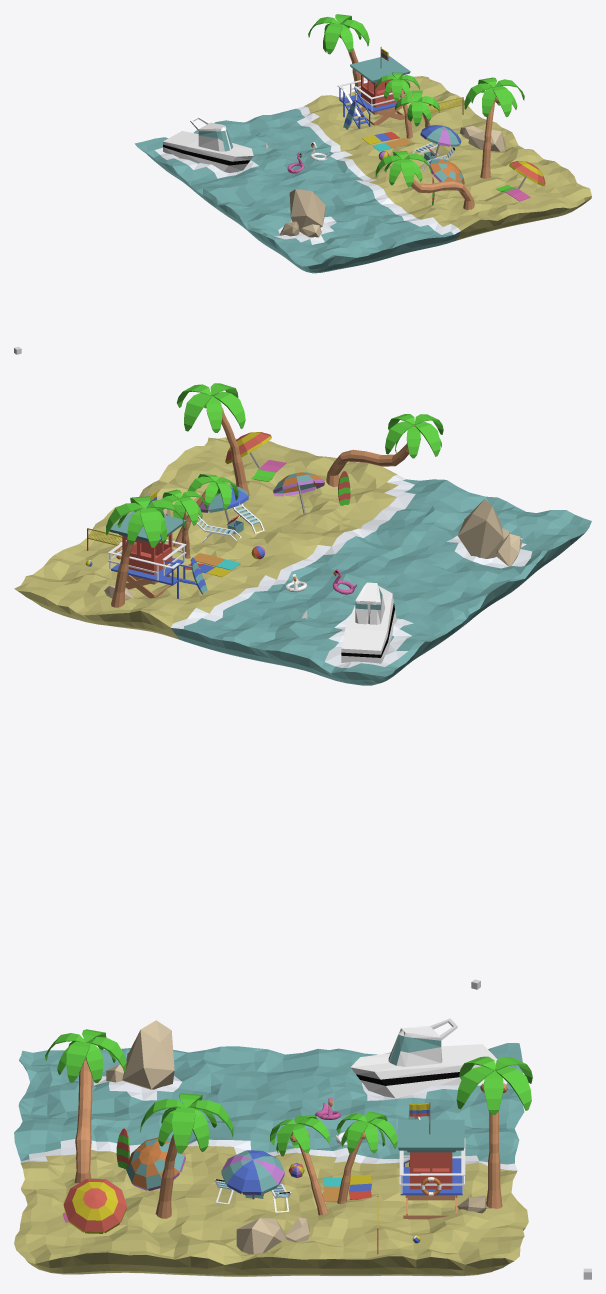
Rendered from beach.glb.
3 renders of one model, top to bottom at view 1: azimuth 30°, elevation 25°; view 2: azimuth 150°, elevation 25°; view 3: azimuth 270°, elevation 25°, orthographic. The views are drawn at different scales.
Parts seen in each view (by area): view 1: LightBlue-material.003, Sand-material, W2-material, White-material.001, R1-material, Green-material.004, Green-material.005, Green-material.006, LightBlue-material.004, Green-material, Brown-material.004, Green-material.002 (+3 smaller); view 2: LightBlue-material.003, Sand-material, W2-material, White-material.001, R1-material, Green-material.005, Green-material.004, Green-material.006, Brown-material.004, Red-material.004, Green-material, Green-material.002 (+1 smaller); view 3: Sand-material, LightBlue-material.003, R1-material, White-material.001, W2-material, Green-material.004, Green-material.005, Green-material.006, LightBlue-material.004, Red-material.003, Brown-material.004, Green-material.002 (+17 smaller).
Boxes of the visible parts, x1,y1,x2,y2 form: LightBlue-material.003: (134, 108, 460, 273); Sand-material: (304, 76, 591, 240); W2-material: (154, 106, 460, 244); White-material.001: (163, 116, 253, 172); R1-material: (279, 126, 505, 237); Green-material.004: (464, 77, 524, 116); Green-material.005: (308, 14, 369, 54); Green-material.006: (375, 151, 431, 187); LightBlue-material.004: (350, 55, 410, 82); Green-material: (394, 90, 439, 126); Brown-material.004: (403, 159, 474, 209); Green-material.002: (375, 72, 419, 101); LightBlue-material.003: (171, 479, 591, 685); Sand-material: (14, 437, 398, 639); W2-material: (171, 474, 532, 668); White-material.001: (341, 582, 396, 663); R1-material: (104, 492, 521, 599); Green-material.005: (106, 496, 184, 547); Green-material.004: (177, 383, 245, 432); Green-material.006: (385, 414, 443, 458); Brown-material.004: (326, 424, 414, 487); Red-material.004: (122, 533, 172, 574); Green-material: (188, 474, 238, 509); Green-material.002: (160, 489, 207, 525); Sand-material: (14, 1145, 528, 1276); LightBlue-material.003: (14, 1043, 524, 1164); R1-material: (106, 1020, 486, 1253); White-material.001: (350, 1018, 497, 1098); W2-material: (20, 1061, 517, 1170); Green-material.004: (140, 1093, 233, 1153); Green-material.005: (456, 1056, 532, 1114); Green-material.006: (45, 1029, 126, 1083); LightBlue-material.004: (398, 1119, 464, 1152); Red-material.003: (63, 1178, 126, 1232); Brown-material.004: (74, 1042, 92, 1183); Green-material.002: (336, 1111, 397, 1153).
Size of the model in its own units: 165 by 114 by 141.
